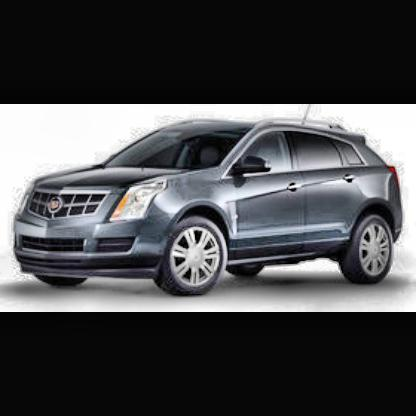Cadillac SRX SUV 2012: (13, 107, 405, 304)
